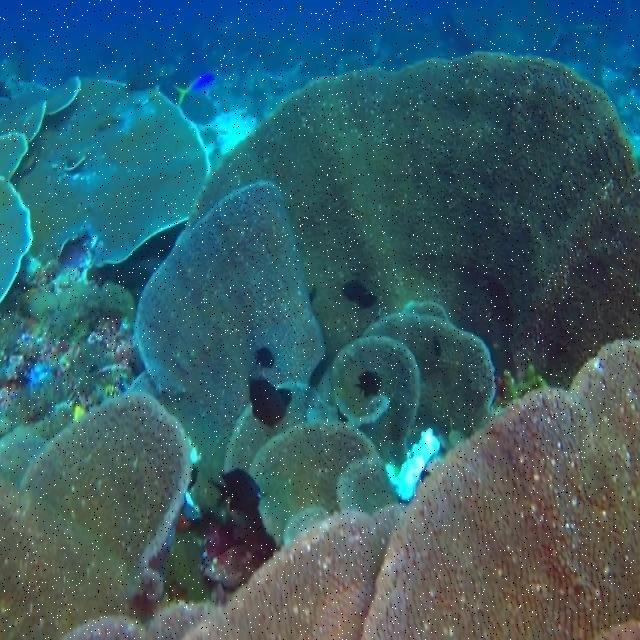fish: (209, 467, 262, 512), (354, 373, 381, 397), (253, 347, 276, 369)
reefs: (179, 51, 639, 415), (361, 340, 639, 639), (135, 181, 327, 516), (0, 394, 192, 639), (12, 78, 211, 286)
